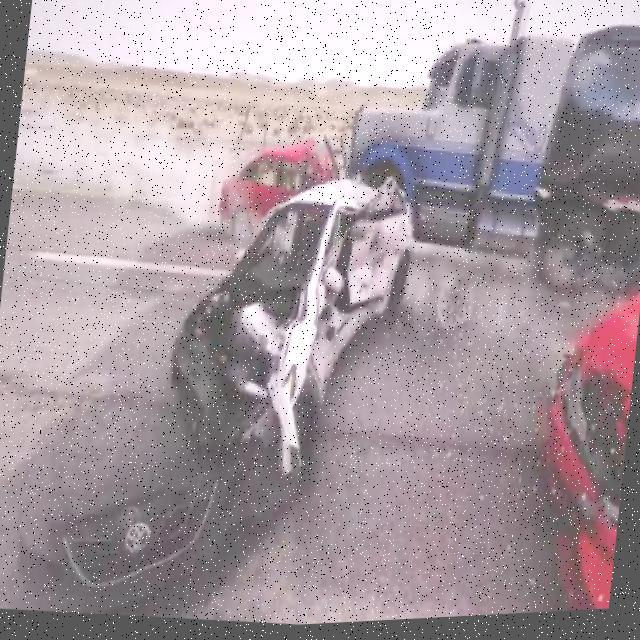Car Accident Detector - v4 Generation1 Exported: (158, 89, 443, 462)
